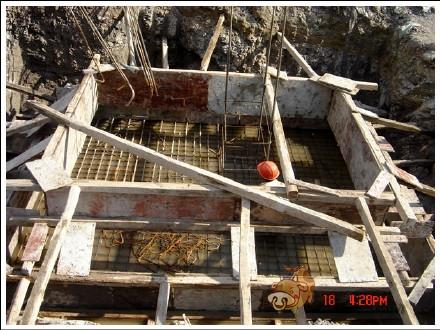helmet: (255, 160, 281, 182)
